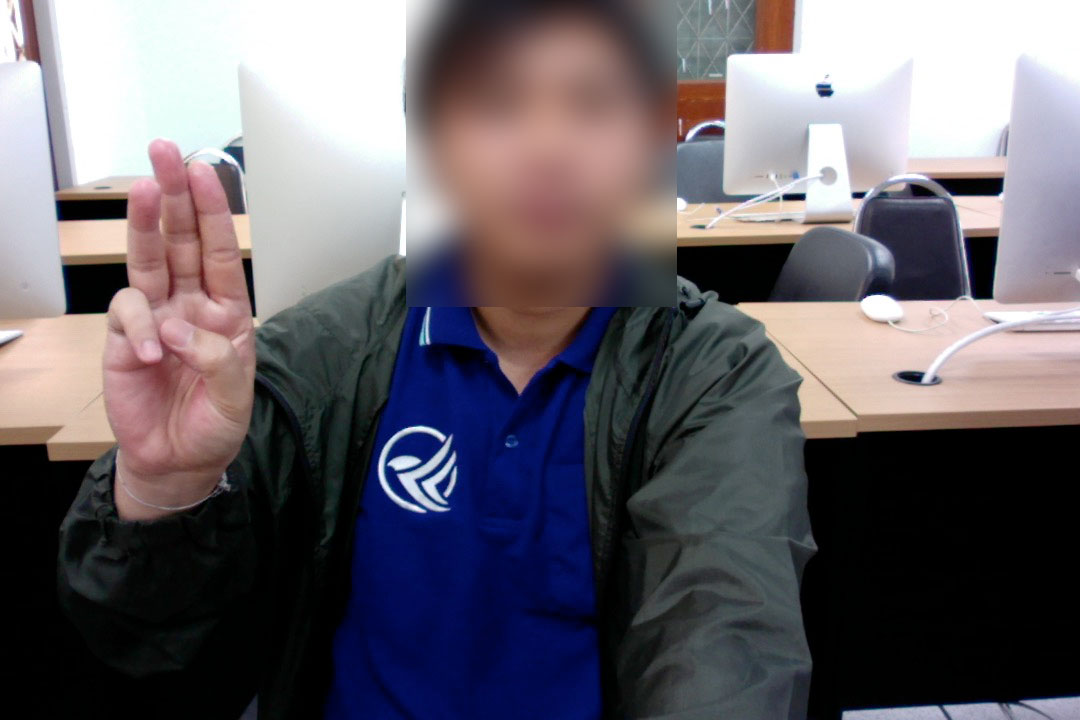wor: (92, 132, 280, 480)
